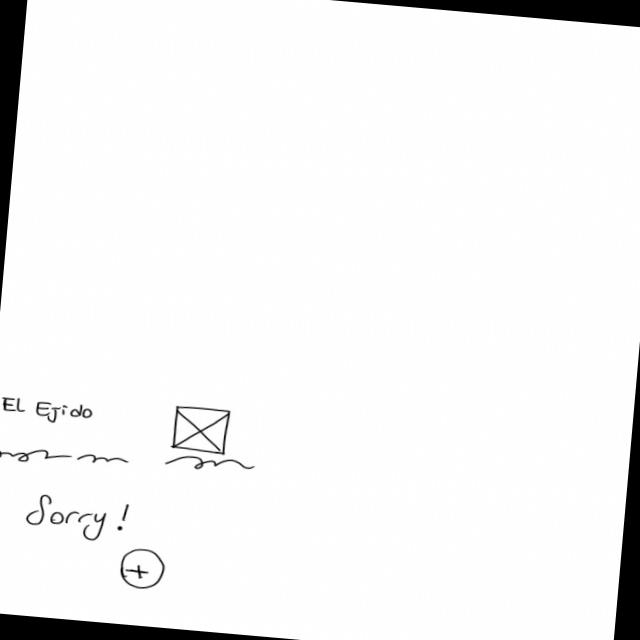icon-button: (117, 546, 166, 591)
image: (170, 403, 232, 455)
label: (22, 492, 131, 544), (0, 395, 93, 427)
text: (0, 442, 130, 473), (162, 452, 256, 476)
